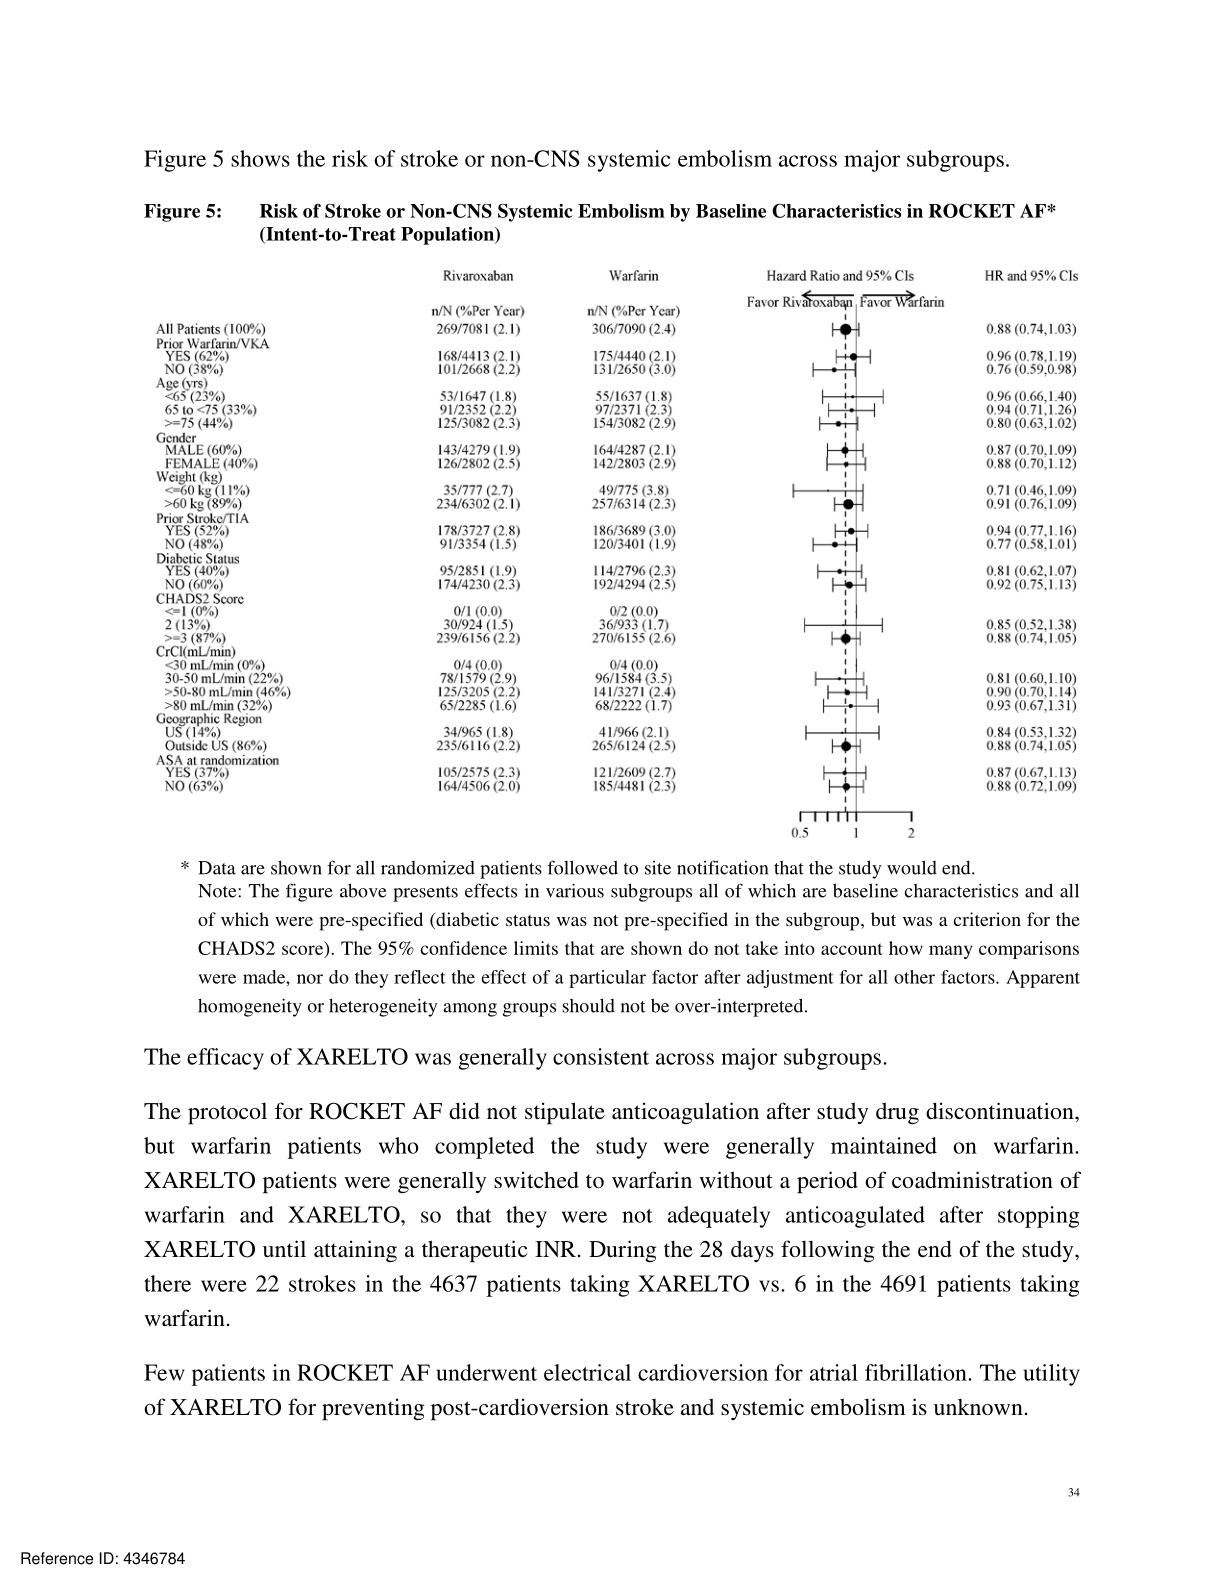nolines: (148, 264, 1084, 798)
